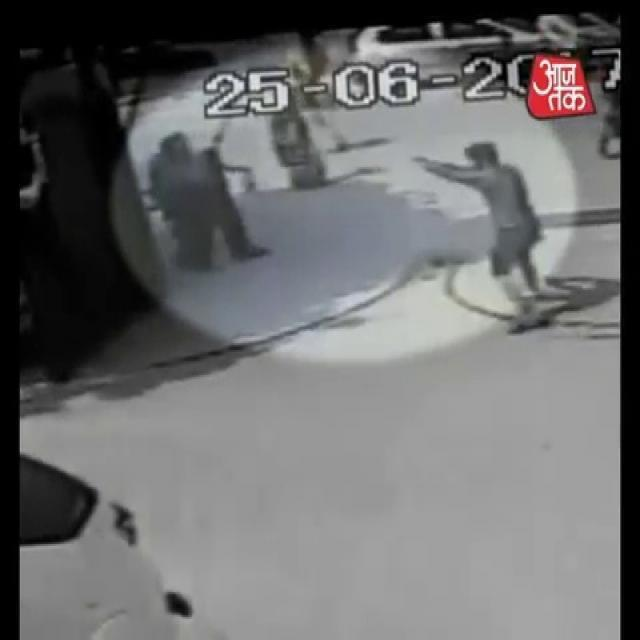Gun: (404, 149, 432, 178)
